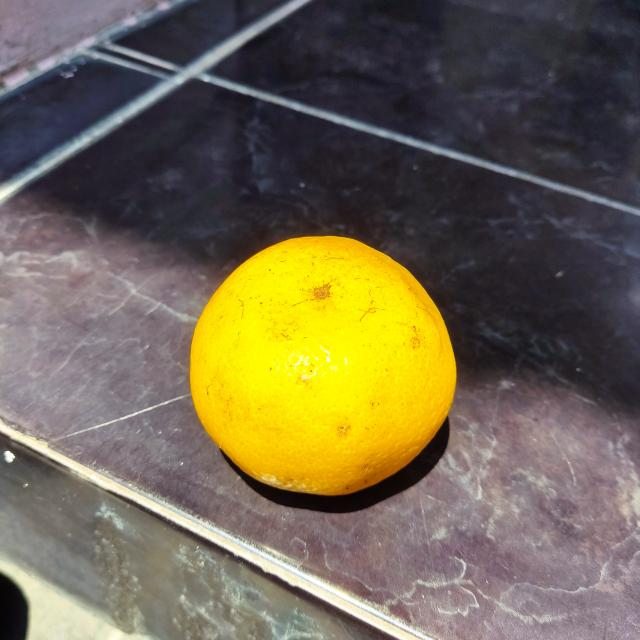orange: (190, 235, 456, 494)
